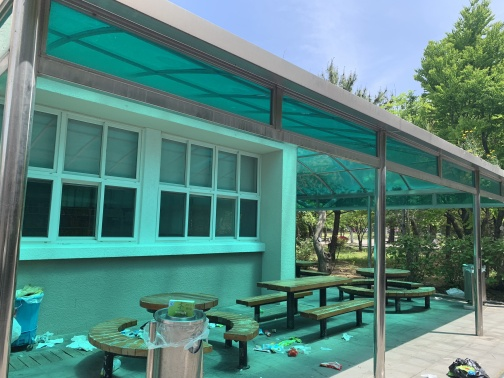Ara Hall: (14, 31, 494, 364), (33, 192, 488, 369)
